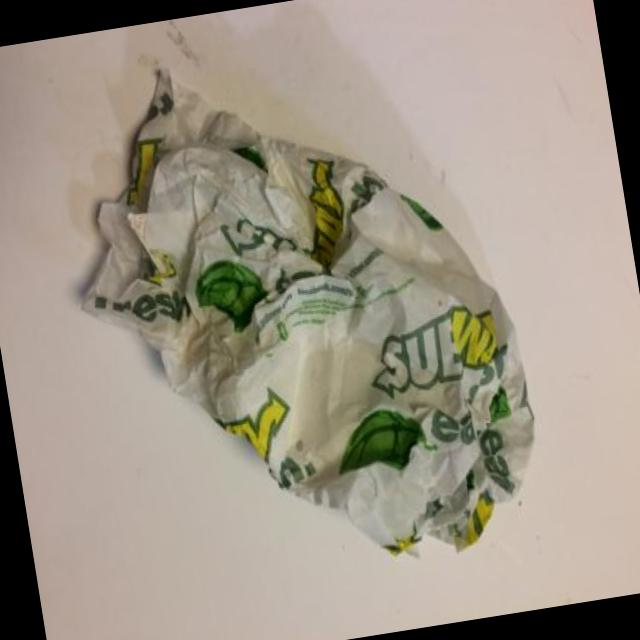giay: (78, 62, 536, 555)
